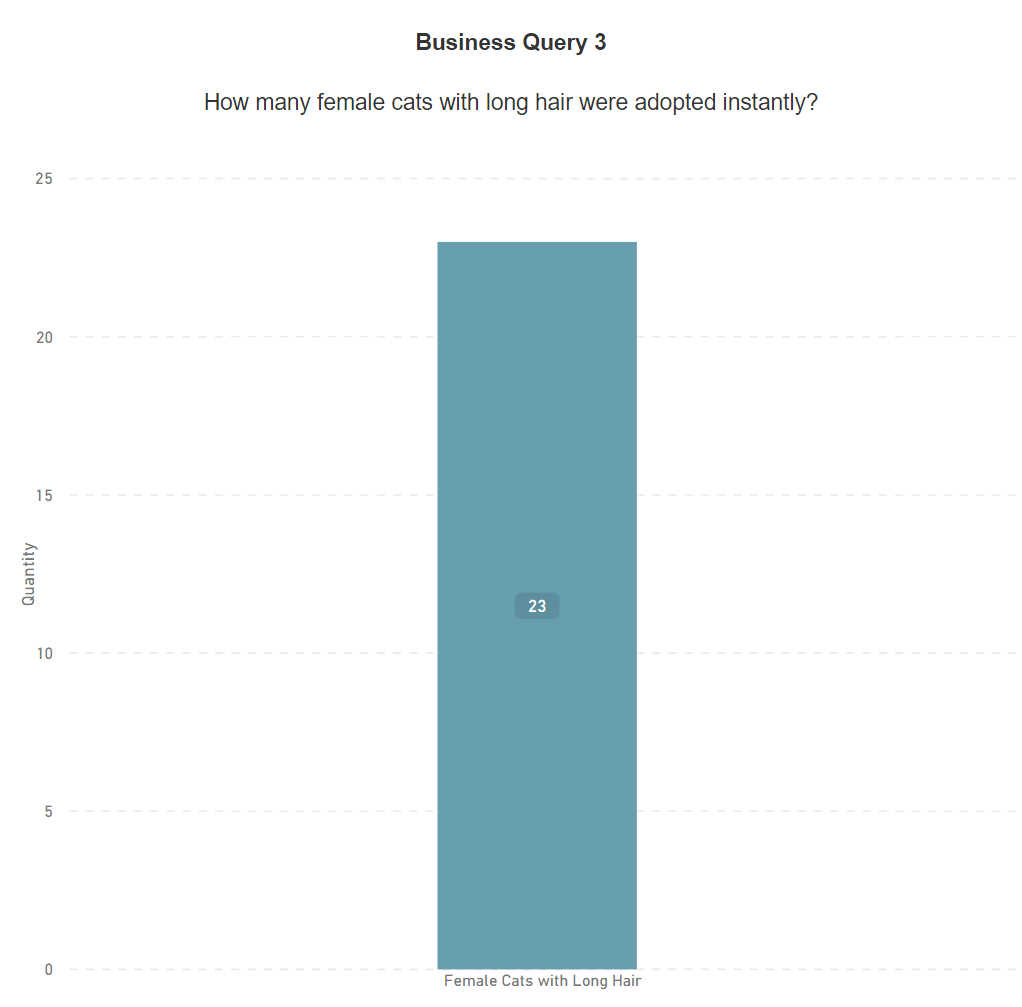

Layout of this report page (visuals, bound fields, positions):
{"tool":"powerbi","page":{"name":"Business Query 3","canvas":[1280,720],"ordinal":2},"visuals":[{"type":"clusteredColumnChart","fields":{"Y":["Fact Pet Adoption Speed.Quantity"]},"box":[322.5,97.6,633.8,522.6],"z":0},{"type":"textbox","box":[369.4,12.4,539.9,93.9],"z":1000}]}

Visuals, with their boxes on the page's 1280x720 design canvas (x1, y1, x2, y2). These are canvas units, not pixel positions in the 1022x1007 screenshot, which may show the page scaled, cropped or inside an application window:
clusteredColumnChart - Fact Pet Adoption Speed.Quantity: <bbox>322, 98, 956, 620</bbox>
textbox: <bbox>369, 12, 909, 106</bbox>
